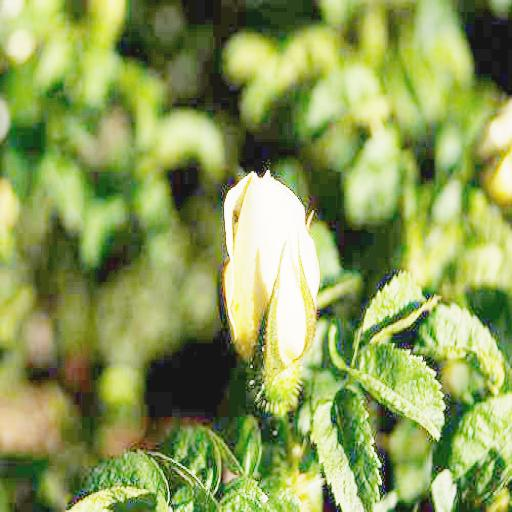rose: (217, 167, 320, 360)
